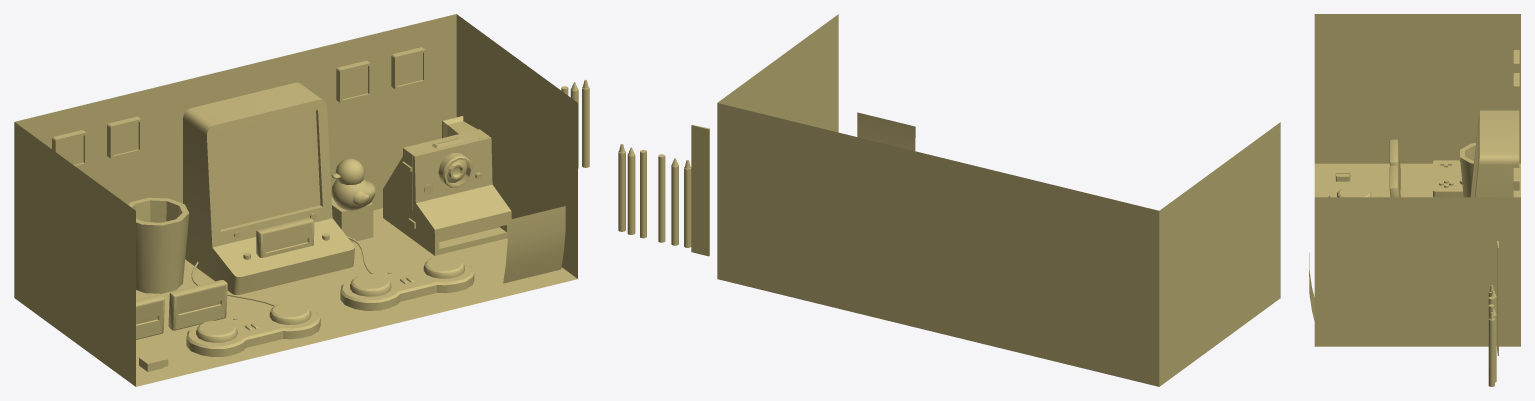
File: RoomAll.fbx
3 renders of one model, left to right at view 1: azimuth 30°, elevation 25°; view 2: azimuth 150°, elevation 25°; view 3: azimuth 270°, elevation 25°, orthographic. The views are drawn at different scales.
Parts seen in each view (by area): view 1: Box001, Game001_low, Plane007, Camera002_low, Cup001_low, Camera001_low, Plane006, controller002_low, Controller001_low, Tape002_low, Tape003_low, magic001_low (+17 smaller); view 2: Box001, Ruler001_low, Plane006, Pen005_low, Pen003_low, Pen006_low, Pen001_low, Pen002_low, Pen004_low; view 3: Box001, Game001_low, Gameplayer003_low, Cup001_low, Pen006_low, Controller003_low, Tape002_low, tape001_low, Photo_frame002_low, Eraser001_low, Ruler001_low.
Part boxes in pixels (x1,y1,x2,y2): Box001: [14, 14, 577, 386]; Game001_low: [183, 82, 354, 294]; Plane007: [216, 110, 320, 229]; Camera002_low: [413, 136, 511, 232]; Cup001_low: [128, 197, 189, 293]; Camera001_low: [383, 129, 511, 255]; Plane006: [503, 206, 565, 283]; controller002_low: [340, 260, 474, 310]; Controller001_low: [186, 306, 320, 356]; Tape002_low: [168, 280, 227, 330]; Tape003_low: [256, 217, 314, 257]; magic001_low: [331, 197, 373, 242]; Box001: [717, 14, 1280, 386]; Ruler001_low: [691, 124, 709, 256]; Plane006: [857, 112, 915, 150]; Pen005_low: [627, 147, 635, 234]; Pen003_low: [658, 154, 665, 242]; Pen006_low: [618, 144, 625, 231]; Pen001_low: [684, 160, 691, 247]; Pen002_low: [671, 158, 678, 245]; Pen004_low: [640, 150, 646, 238]; Box001: [1314, 14, 1520, 346]; Game001_low: [1470, 110, 1519, 197]; Gameplayer003_low: [1433, 160, 1463, 197]; Cup001_low: [1460, 143, 1475, 197]; Pen006_low: [1488, 312, 1494, 386]; Controller003_low: [1337, 186, 1371, 197]; Tape002_low: [1389, 165, 1400, 197]; tape001_low: [1389, 139, 1400, 190]; Photo_frame002_low: [1513, 73, 1519, 112]; Eraser001_low: [1335, 167, 1350, 181]; Ruler001_low: [1497, 241, 1498, 355].
Bounding box in the file's own units: 1043 × 315 × 404.
